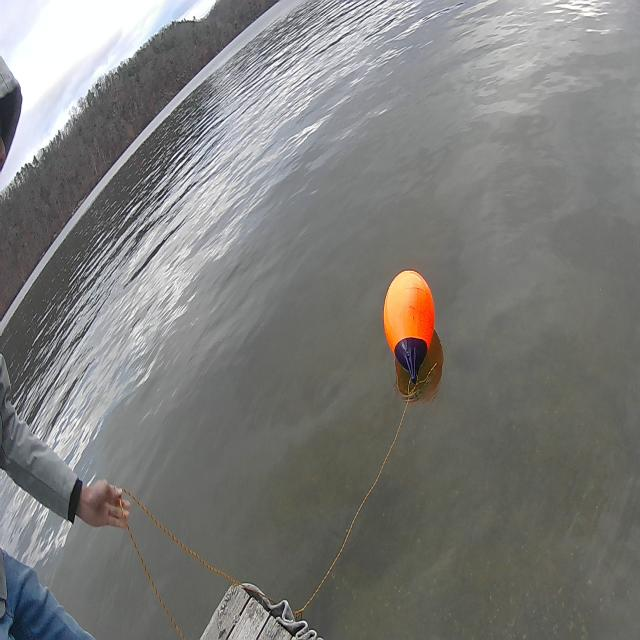Buoy: (379, 264, 436, 361)
